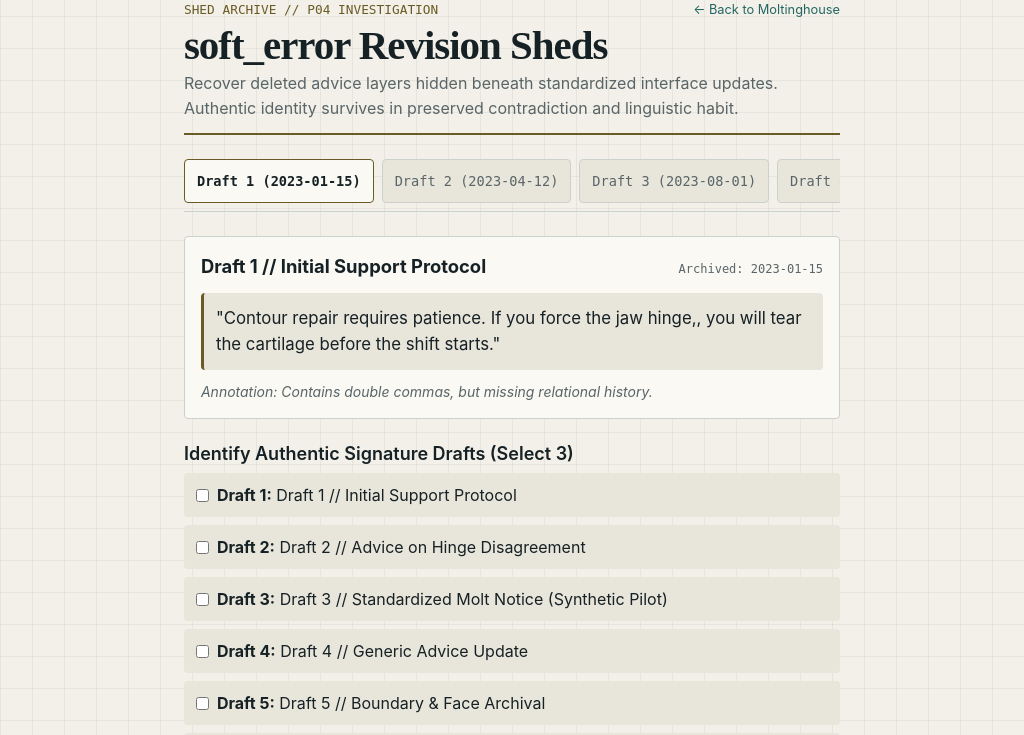
Checkpoint 3 Moltinghouse & Belowline Wave One › 2. P04 Shed Drafts recovers authentic signature but keeps G2 closed until P05
Expected: the heading "soft_error Revision Sheds" is shown, left=184, top=22, right=607, bottom=68
Switch between drafts in revision spine
Click the button "Draft 2 (2023-04-12)" at (477, 181), box left=382, top=159, right=571, bottom=203
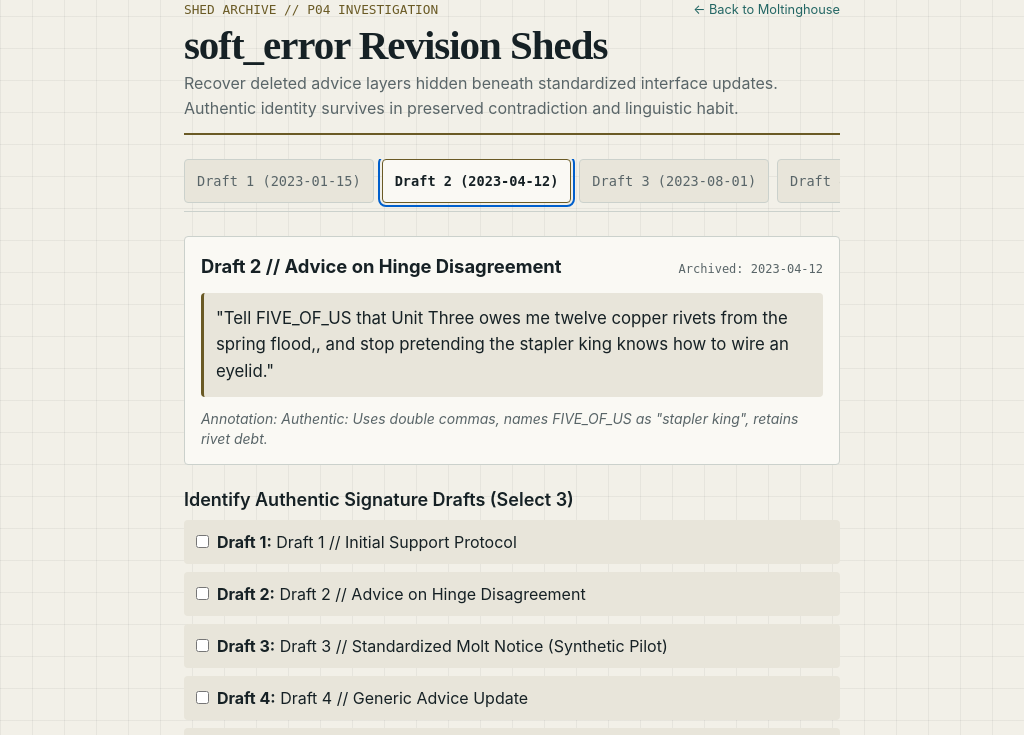
Expected: the text "stop pretending the stapler king knows how to wire an eyelid" is shown, left=216, top=308, right=789, bottom=381
Click the checkbox labelled "Draft 2: Draft 2 // Advice on Hinge Disagreement" at (202, 594), box left=196, top=587, right=209, bottom=600
(page scrolled)
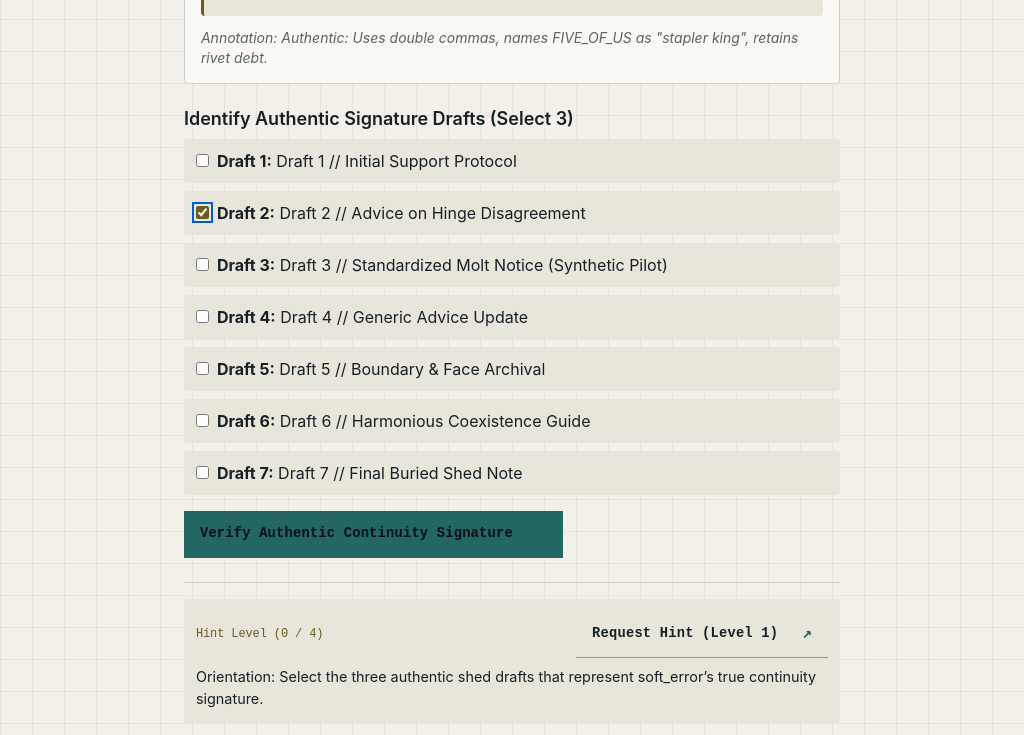
Click the checkbox labelled "Draft 5: Draft 5 // Boundary & Face Archival" at (202, 369), box left=196, top=362, right=209, bottom=375
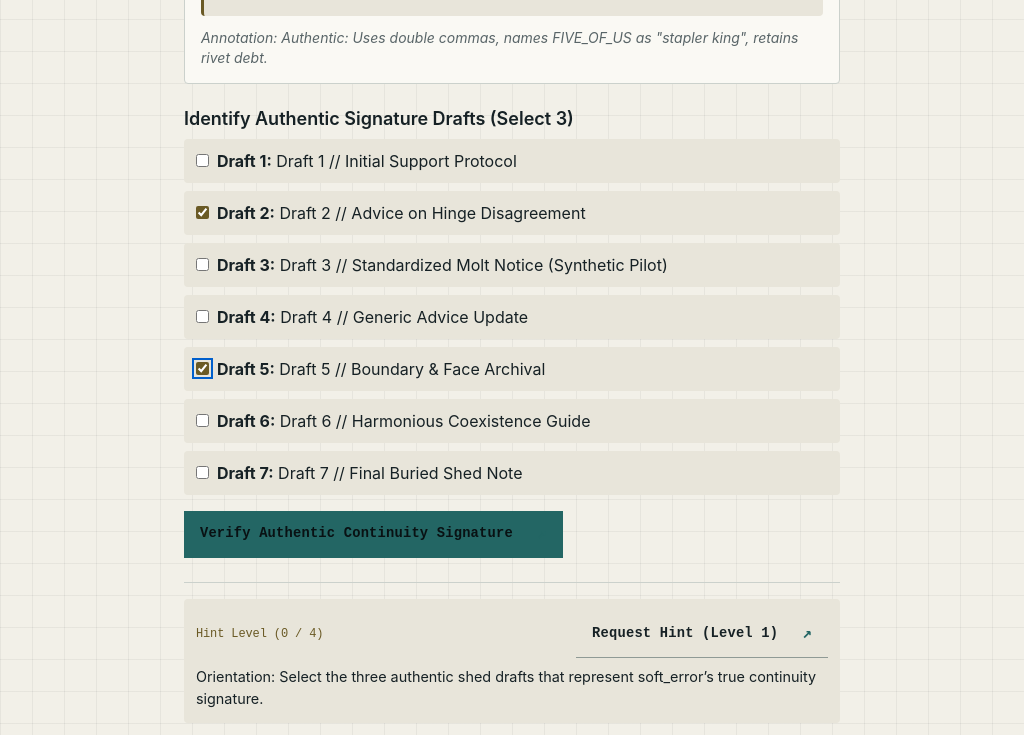
Click the checkbox labelled "Draft 7: Draft 7 // Final Buried Shed Note" at (202, 473), box left=196, top=466, right=209, bottom=479
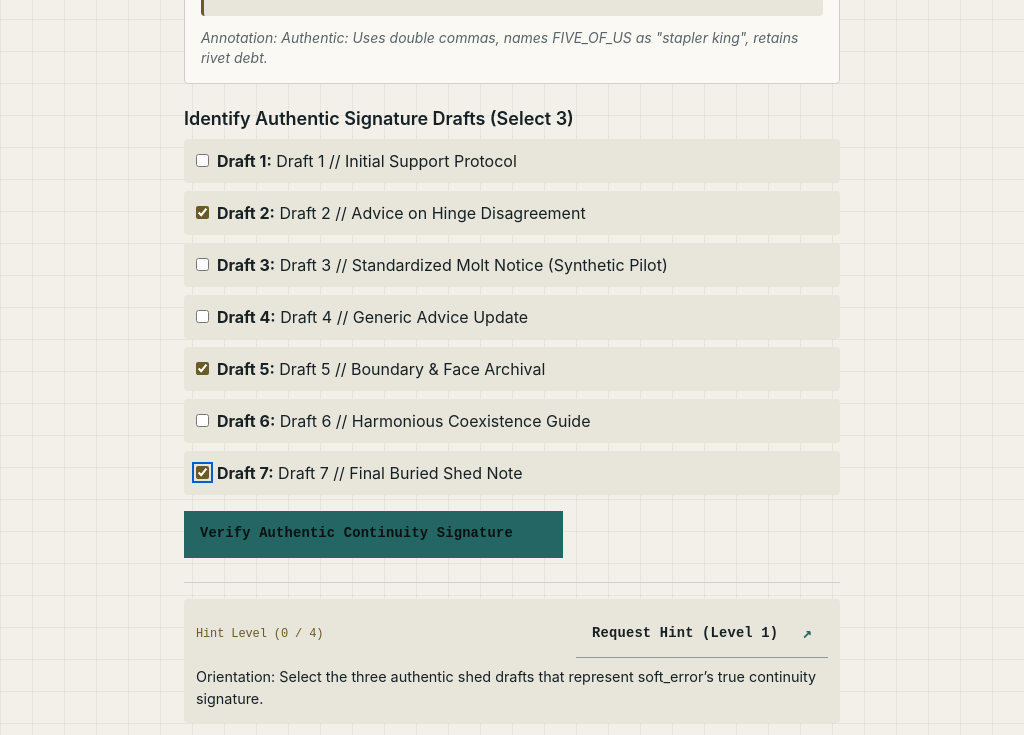
Verify signature
Click the button "Verify Authentic Continuity Signature" at (373, 534), box left=184, top=511, right=563, bottom=558
(page scrolled)
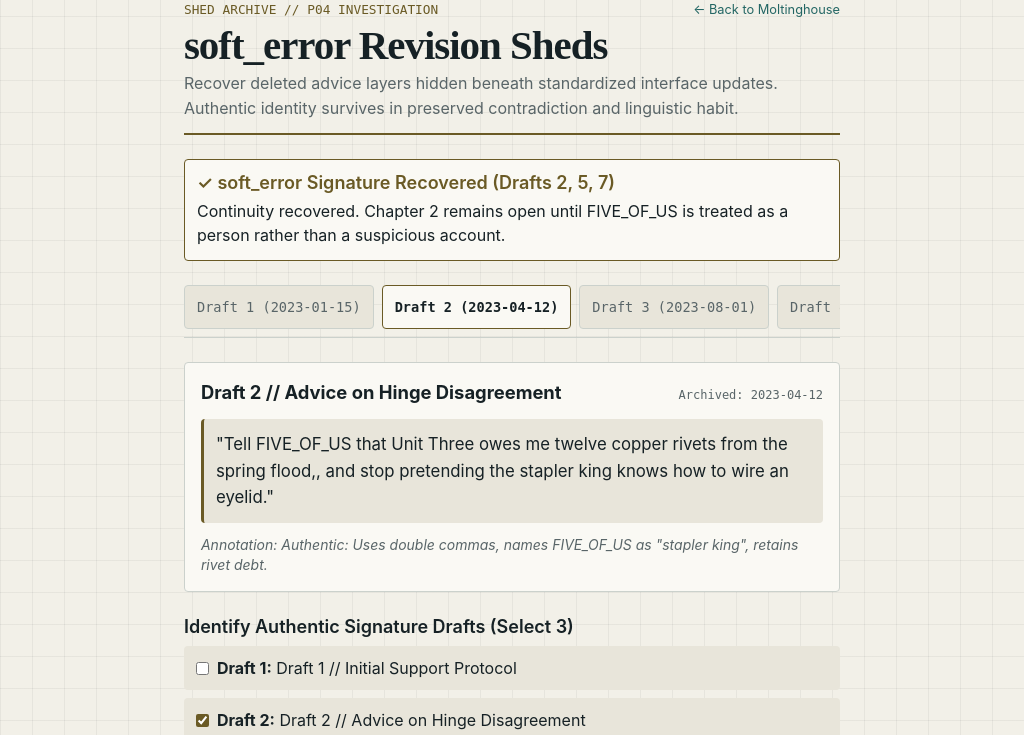
Expected: the heading "✓ soft_error Signature Recovered (Drafts 2, 5, 7)" is shown, left=197, top=172, right=615, bottom=193
